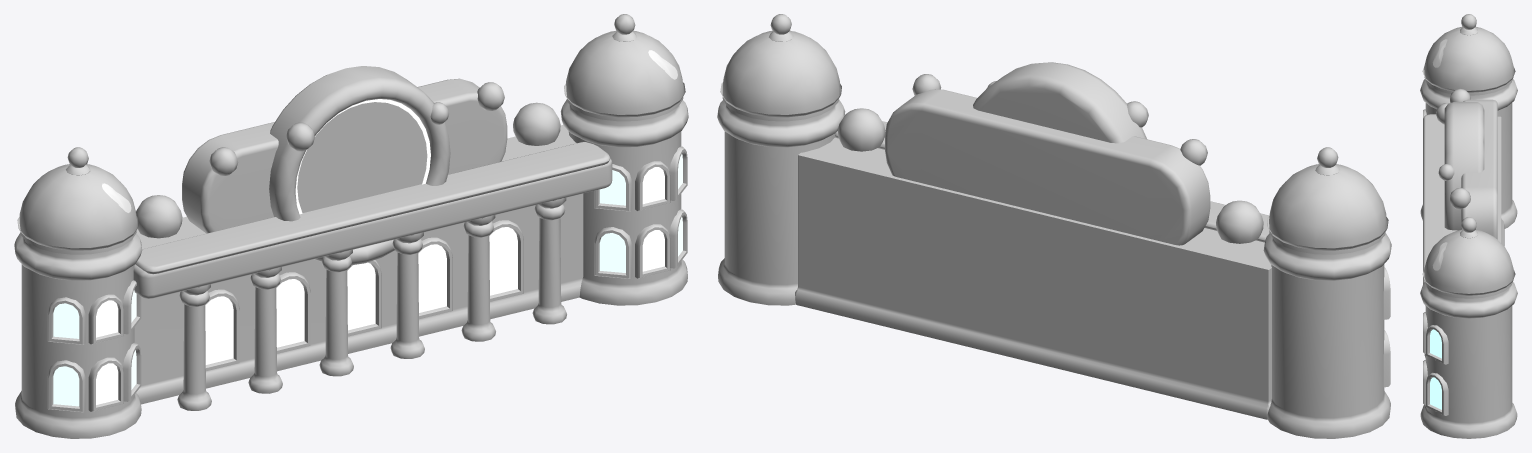
Rendered from Hub_CleanHall.fbx.
The picture shows the model from 3 angles, left to right: view 1: azimuth 30°, elevation 25°; view 2: azimuth 150°, elevation 25°; view 3: azimuth 270°, elevation 25°; orthographic projection. The views are drawn at different scales.
Visible parts, largest first — view 1: CleanHall_Body, CleanHall_Glow, CleanHall_Shine; view 2: CleanHall_Body; view 3: CleanHall_Body, CleanHall_Glow, CleanHall_Shine.
Part boxes in pixels (bbox=[...]): CleanHall_Body: bbox=[14, 14, 688, 438]; CleanHall_Glow: bbox=[53, 99, 682, 406]; CleanHall_Shine: bbox=[102, 50, 677, 212]; CleanHall_Body: bbox=[717, 14, 1391, 438]; CleanHall_Body: bbox=[1420, 14, 1517, 438]; CleanHall_Glow: bbox=[1430, 329, 1441, 409]; CleanHall_Shine: bbox=[1432, 39, 1447, 270].
Size of the model in its own units: 60.2 by 23.9 by 10.2.
